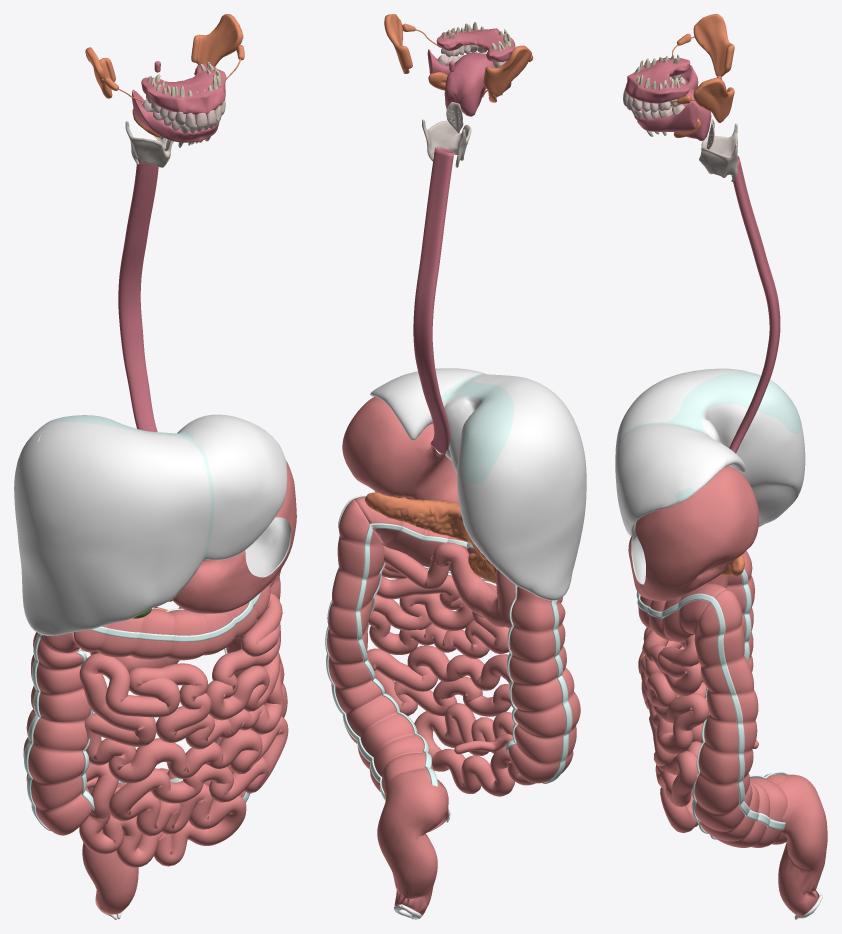
Rendered from digestive.glb.
The picture shows the model from 3 angles, left to right: view 1: azimuth 30°, elevation 25°; view 2: azimuth 150°, elevation 25°; view 3: azimuth 270°, elevation 25°; orthographic projection. The views are drawn at different scales.
Visible parts, largest first — view 1: Liver, Jejunum, Ascending_colon, Transverse_colon, Oesophagus, Stomach, Gingiva, Sigmoid_colon, Mesocolic_taenia, Mucosa_of_stomach, Parotid_gland_L, Thyroid_cartilage (+3 smaller); view 2: Liver, Jejunum, Descending_colon, Ascending_colon, Stomach, Sigmoid_colon, Oesophagus, Pancreas, Duodenum, Free_taenia, Mesocolic_taenia, Transverse_colon (+6 smaller); view 3: Liver, Descending_colon, Stomach, Jejunum, Sigmoid_colon, Oesophagus, Gingiva, Mesocolic_taenia, Transverse_colon, Parotid_gland_R, Thyroid_cartilage, Parotid_gland_L (+4 smaller).
Part boxes in pixels (x1,y1,x2,y2): Liver: (14, 414, 287, 635); Jejunum: (79, 593, 288, 867); Ascending_colon: (23, 632, 92, 835); Transverse_colon: (73, 578, 275, 660); Oesophagus: (118, 158, 158, 431); Stomach: (172, 461, 296, 613); Gingiva: (132, 63, 226, 142); Sigmoid_colon: (82, 787, 138, 914); Mesocolic_taenia: (24, 592, 261, 831); Mucosa_of_stomach: (245, 517, 291, 577); Parotid_gland_L: (191, 14, 243, 66); Thyroid_cartilage: (125, 121, 173, 167); Liver: (370, 368, 586, 600); Jejunum: (367, 545, 535, 796); Descending_colon: (327, 499, 448, 832); Ascending_colon: (508, 586, 580, 783); Stomach: (342, 396, 459, 504); Sigmoid_colon: (377, 770, 448, 916); Oesophagus: (413, 147, 453, 454); Pancreas: (365, 492, 496, 583); Duodenum: (432, 542, 517, 627); Free_taenia: (355, 523, 518, 786); Mesocolic_taenia: (325, 495, 572, 800); Transverse_colon: (354, 496, 481, 577); Liver: (615, 368, 805, 535); Descending_colon: (694, 589, 787, 847); Stomach: (628, 465, 758, 600); Jejunum: (638, 627, 709, 833); Sigmoid_colon: (777, 774, 827, 916); Oesophagus: (729, 156, 780, 453); Gingiva: (625, 57, 698, 131); Mesocolic_taenia: (636, 591, 785, 830); Transverse_colon: (638, 583, 727, 642); Parotid_gland_R: (693, 14, 734, 76); Thyroid_cartilage: (699, 123, 737, 181); Parotid_gland_L: (693, 77, 734, 122).
Bounding box in the file's own units: 0.2292 × 0.7763 × 0.1712.
